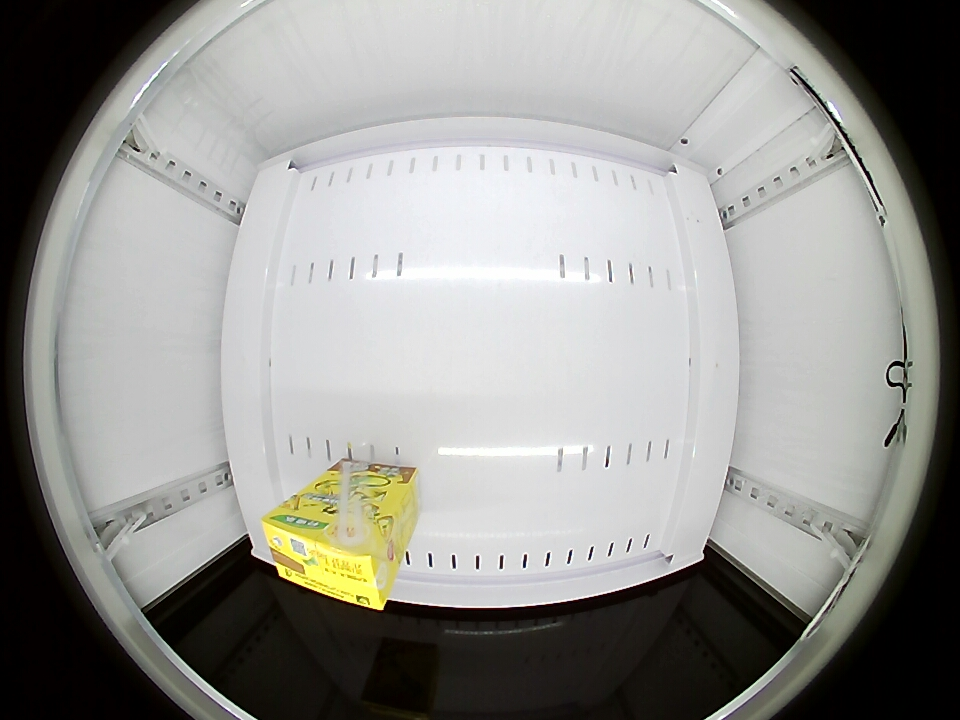weitaningmeng: (261, 498, 400, 609)
